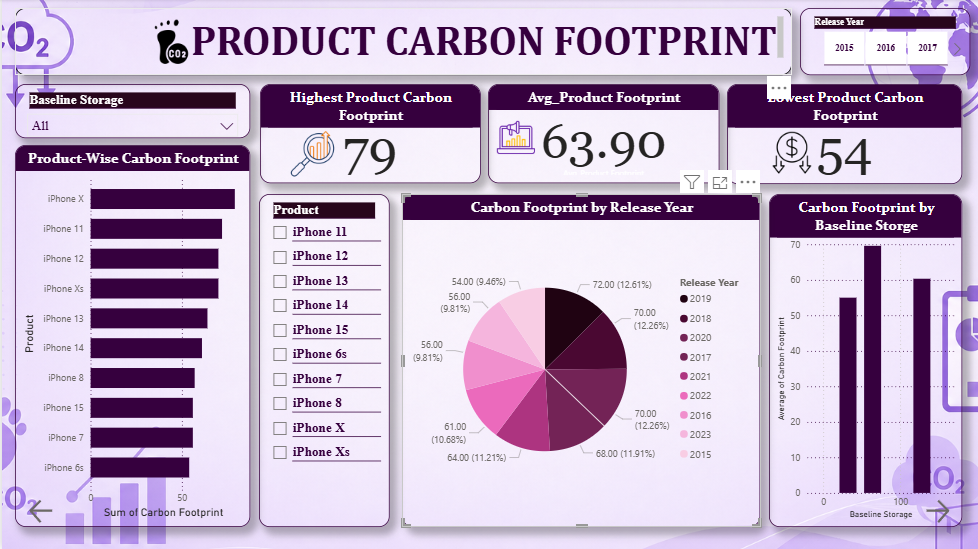

The page's visual inventory and layout, read from the dashboard file:
{"tool":"powerbi","page":{"name":"Product Carbon Footprint","canvas":[1280,720],"ordinal":3},"visuals":[{"type":"barChart","title":"Product-Wise Carbon Footprint","fields":{"Category":["carbon_footprint_by_product.Product"],"Y":["Sum(carbon_footprint_by_product.Carbon Footprint)"]},"box":[17.3,191.5,308.2,499.7],"z":0},{"type":"pieChart","title":"Carbon Footprint by Release Year","fields":{"Category":["carbon_footprint_by_product.Release Year"],"Y":["Avg(carbon_footprint_by_product.Carbon Footprint)"]},"box":[524.2,254.9,469.4,436.3],"z":1000},{"type":"columnChart","title":"Carbon Footprint by Baseline Storge","fields":{"Y":["Avg(carbon_footprint_by_product.Carbon Footprint)"],"Category":["carbon_footprint_by_product.Baseline Storage"]},"box":[1003.7,254.9,253.4,436.3],"z":2000},{"type":"card","title":"Highest Product Carbon Footprint","fields":{"Values":["Max(carbon_footprint_by_product.Carbon Footprint)"]},"box":[337.1,111.4,288.6,130],"z":3000},{"type":"card","title":"Avg_Product Footprint","fields":{"Values":["carbon_footprint_by_product.Avg_Product Footprint"]},"box":[635.7,111.4,302.9,130],"z":4000},{"type":"card","title":"Lowest Product Carbon Footprint","fields":{"Values":["Min(carbon_footprint_by_product.Carbon Footprint)"]},"box":[949,110.9,308.2,131],"z":5000},{"type":"textbox","box":[17.3,11.5,1016.6,87.8],"z":6000},{"type":"slicer","fields":{"Values":["carbon_footprint_by_product.Product"]},"box":[337,254.9,171.4,436.3],"z":7000},{"type":"slicer","fields":{"Values":["carbon_footprint_by_product.Baseline Storage"]},"box":[17.3,110.9,308.2,70.6],"z":8000},{"type":"slicer","fields":{"Values":["carbon_footprint_by_product.Release Year"]},"box":[1044,11.5,223.2,87.8],"z":9000},{"type":"actionButton","box":[31.7,650.9,99.4,40.3],"z":10000},{"type":"actionButton","box":[1203.8,650.9,76.3,40.3],"z":11000},{"type":"image","box":[370.1,164.2,72,77.8],"z":12000},{"type":"image","box":[642.2,149.8,60.5,63.4],"z":13000},{"type":"image","box":[993.6,164.2,80.6,74.9],"z":14000},{"type":"image","box":[185.8,17.3,72,77.8],"z":15000}]}

Visuals, with their boxes in screenshot pixels (x1, y1, x2, y2), scaled from the page's 1280x720 canvas onto the 978x549 screenshot:
"Product-Wise Carbon Footprint" barChart: BBox(13, 146, 249, 527)
"Carbon Footprint by Release Year" pieChart: BBox(401, 194, 759, 527)
"Carbon Footprint by Baseline Storge" columnChart: BBox(767, 194, 961, 527)
"Highest Product Carbon Footprint" card: BBox(258, 85, 478, 184)
"Avg_Product Footprint" card: BBox(486, 85, 717, 184)
"Lowest Product Carbon Footprint" card: BBox(725, 85, 961, 184)
textbox: BBox(13, 9, 790, 76)
slicer - carbon_footprint_by_product.Product: BBox(257, 194, 388, 527)
slicer - carbon_footprint_by_product.Baseline Storage: BBox(13, 85, 249, 138)
slicer - carbon_footprint_by_product.Release Year: BBox(798, 9, 968, 76)
actionButton: BBox(24, 496, 100, 527)
actionButton: BBox(920, 496, 977, 527)
image: BBox(283, 125, 338, 185)
image: BBox(491, 114, 537, 163)
image: BBox(759, 125, 821, 182)
image: BBox(142, 13, 197, 73)
